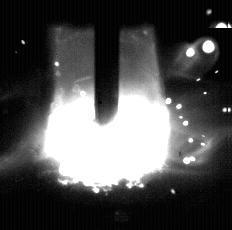arame: (95, 0, 120, 126)
poca: (44, 0, 172, 230)
